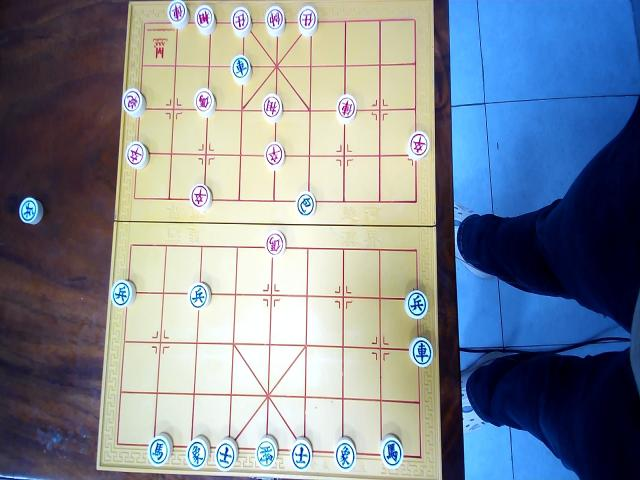piece: (146, 432, 172, 467), (185, 434, 210, 470), (379, 434, 403, 470), (255, 435, 279, 470), (333, 437, 357, 471), (215, 436, 238, 471), (110, 278, 136, 308), (404, 288, 428, 320), (290, 436, 312, 470), (406, 130, 430, 161), (409, 336, 433, 367), (122, 87, 146, 118), (193, 4, 216, 36), (335, 93, 357, 125), (264, 5, 286, 37), (230, 6, 252, 38), (124, 141, 148, 170), (18, 196, 42, 225), (297, 4, 318, 37), (187, 281, 210, 311), (167, 0, 189, 31), (194, 87, 216, 118), (264, 140, 286, 170), (190, 183, 212, 213), (230, 54, 251, 84), (262, 92, 282, 123), (265, 230, 286, 258), (296, 191, 316, 217)
